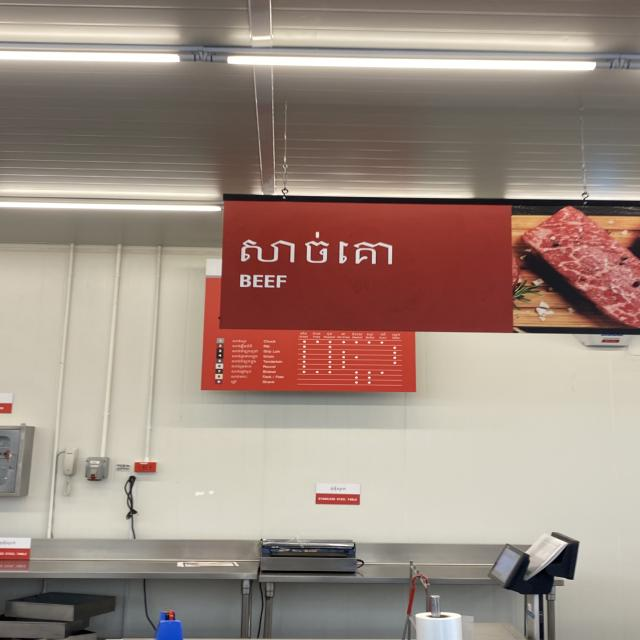Yolov11_80vkh: (233, 231, 406, 269)
